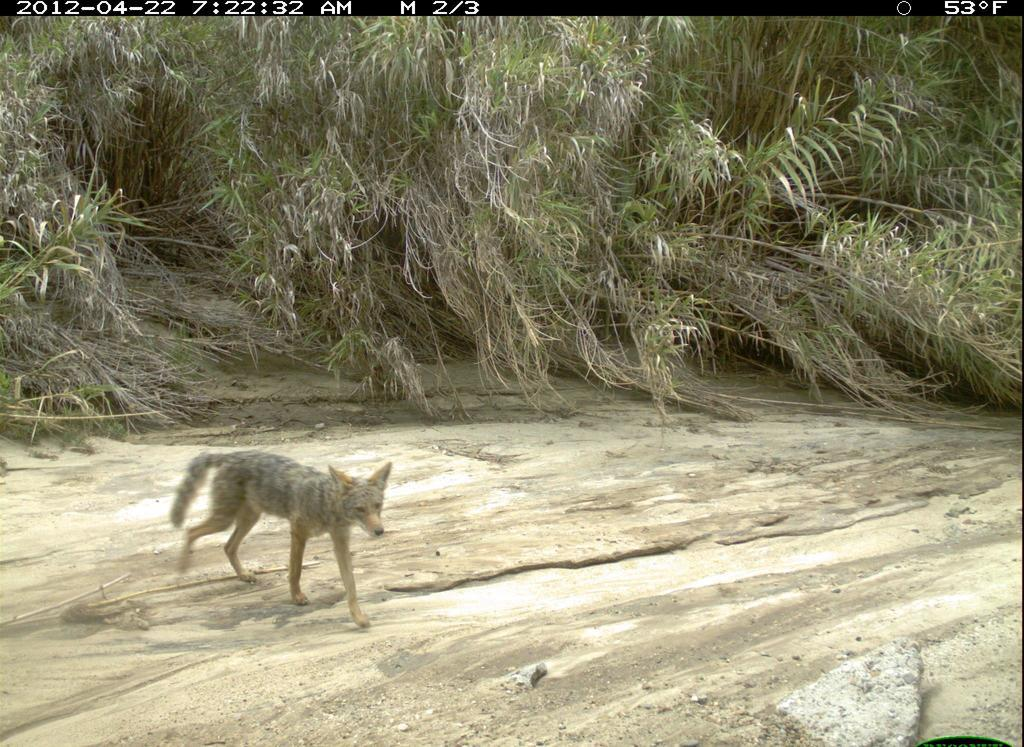coyote: (163, 443, 414, 639)
